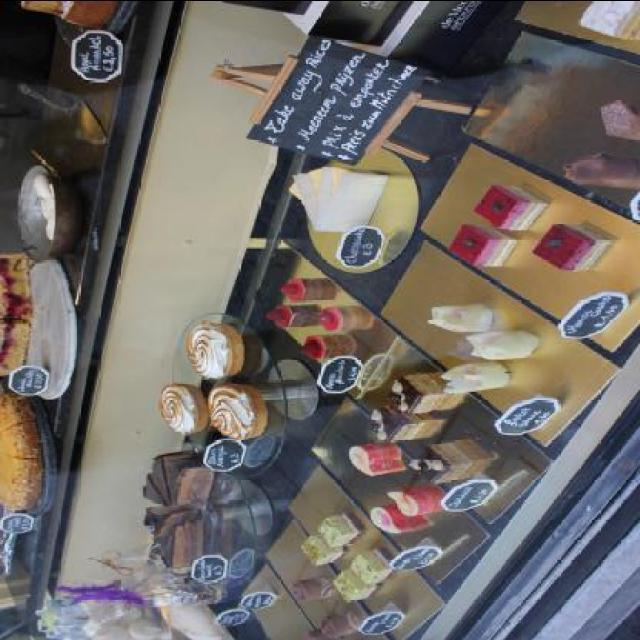Cheese: (286, 163, 388, 234)
